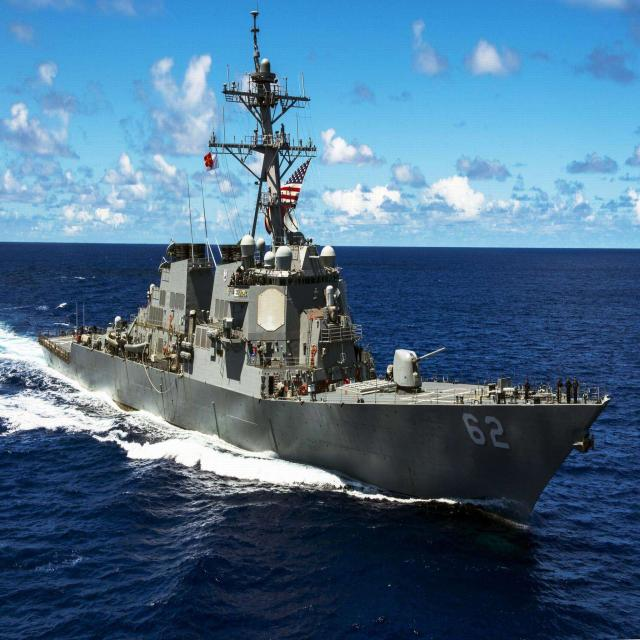navalvessels: (35, 44, 620, 539)
